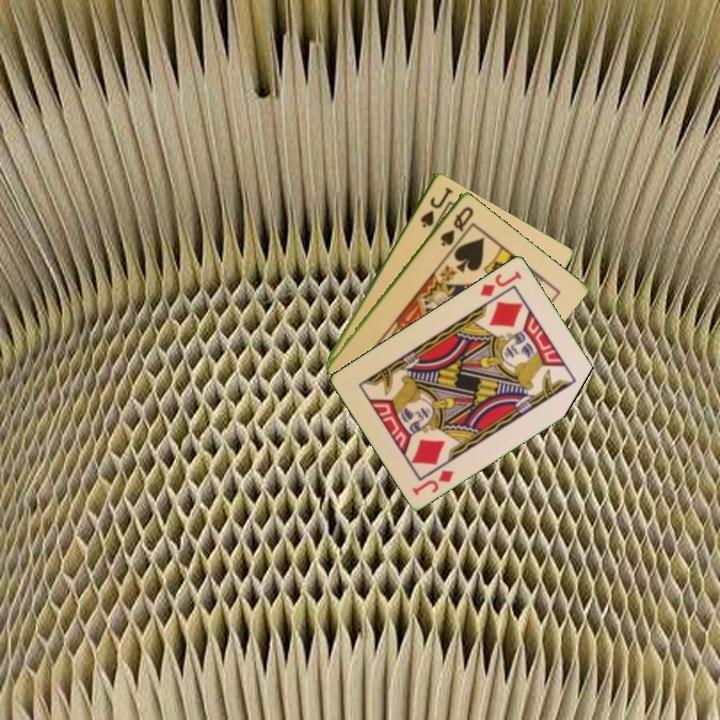Jd: (476, 267, 525, 299), (408, 466, 457, 498)
Js: (416, 183, 454, 230)
Qs: (437, 203, 476, 249)
